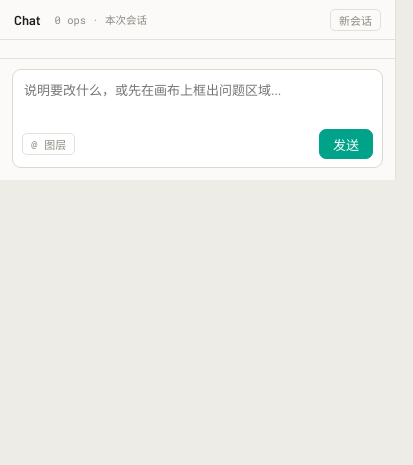
Test case: ChatPanel › sends an instruction, reconciles, then shows the reply
This screenshot has width=413, height=465.
In the text box with placeholder "说明要改什么，或先在画布上框出问题区域…": [198, 98] box [22,78,373,118], type "把角标挪到右下"
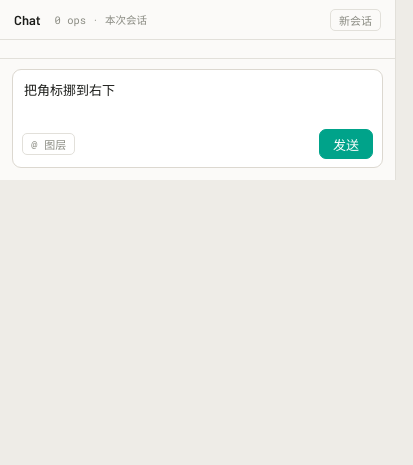
Click the button "发送": [346, 144] box [319,129,373,159]
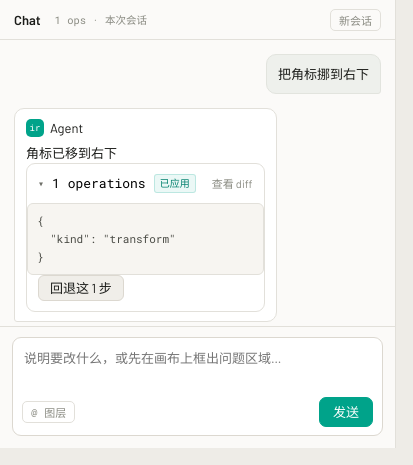
expect the text "角标已移到右下" is shown: met, box [26,145,117,161]
